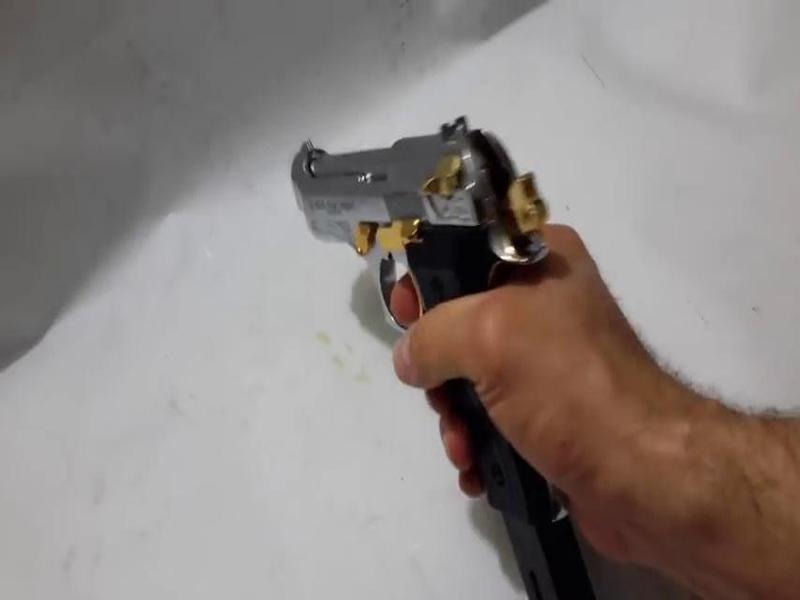Pistola: (275, 111, 612, 518)
